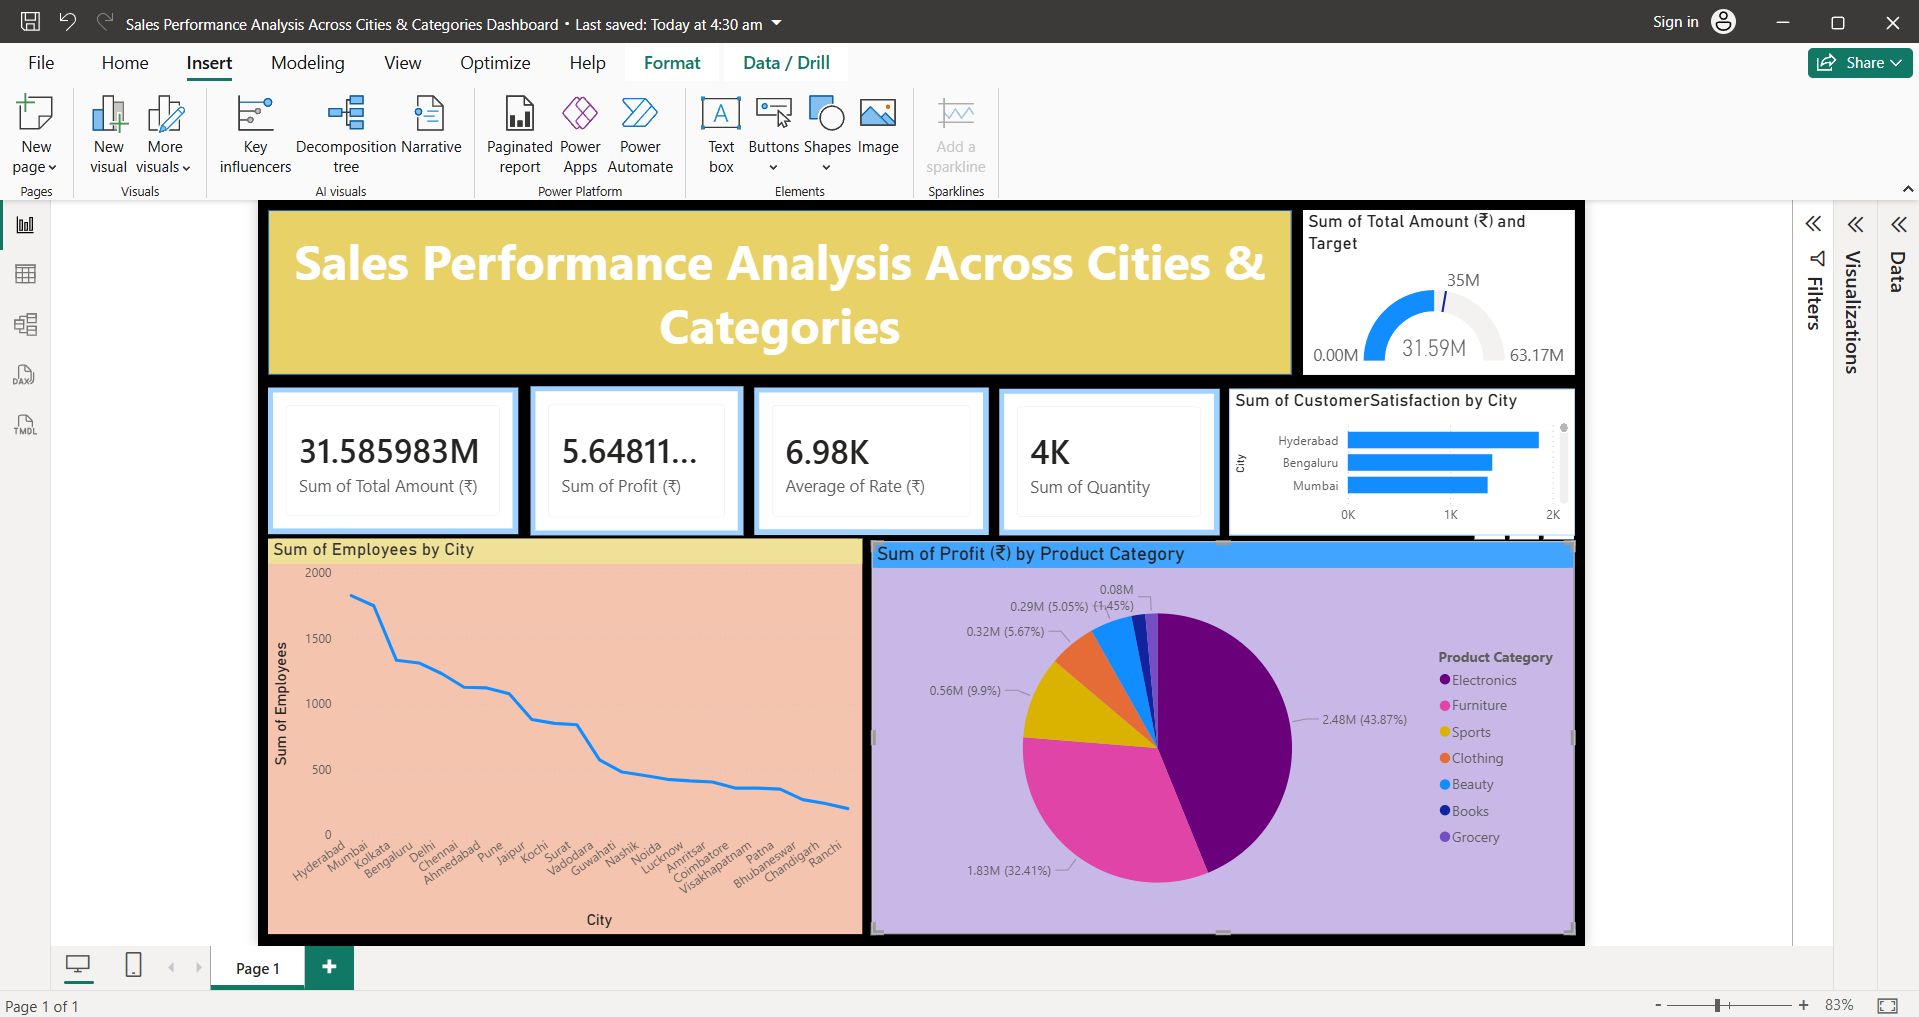

What the dashboard file says about the page in this screenshot:
{"tool":"powerbi","page":{"name":"Page 1","canvas":[1280,720],"ordinal":0},"visuals":[{"type":"gauge","fields":{"Y":["Sum(Sales Data.Total Amount (₹))"],"TargetValue":["Operations_Data.Target"]},"box":[1008.6,9.6,262.1,159.2],"z":0},{"type":"cardVisual","fields":{"Data":["Sum(Sales Data.Quantity)"]},"box":[714.9,182.5,212.7,141.3],"z":1000},{"type":"cardVisual","fields":{"Data":["Avg(Sales Data.Rate (₹))"]},"box":[478.9,181.1,226.4,142.7],"z":2000},{"type":"cardVisual","fields":{"Data":["Sum(Sales Data.Profit (₹))"]},"box":[263.5,179.8,205.8,144.1],"z":3000},{"type":"cardVisual","fields":{"Data":["Sum(Sales Data.Total Amount (₹))"]},"box":[9.6,181.1,241.5,141.3],"z":4000},{"type":"lineChart","fields":{"Y":["Sum(Operations_Data.Employees)"],"Category":["Operations_Data.City"]},"box":[9.6,326.6,573.6,381.5],"z":5000},{"type":"pieChart","fields":{"Category":["Sales Data.Product Category"],"Y":["Sum(Sales Data.Profit (₹))"]},"box":[592.8,329.3,677.9,378.7],"z":6000},{"type":"barChart","fields":{"Category":["Operations_Data.City"],"Y":["Sum(Operations_Data.CustomerSatisfaction)"]},"box":[937.2,182.5,333.4,141.3],"z":7000},{"type":"shape","box":[9.6,9.6,988,159.2],"z":8000}]}

Visuals, with their boxes on the page's 1280x720 design canvas (x1, y1, x2, y2). These are canvas units, not pixel positions in the 1919x1017 screenshot, which may show the page scaled, cropped or inside an application window:
gauge - Sum(Sales Data.Total Amount (₹)) x Operations_Data.Target: [x1=1009, y1=10, x2=1271, y2=169]
cardVisual - Sum(Sales Data.Quantity): [x1=715, y1=182, x2=928, y2=324]
cardVisual - Avg(Sales Data.Rate (₹)): [x1=479, y1=181, x2=705, y2=324]
cardVisual - Sum(Sales Data.Profit (₹)): [x1=264, y1=180, x2=469, y2=324]
cardVisual - Sum(Sales Data.Total Amount (₹)): [x1=10, y1=181, x2=251, y2=322]
lineChart - Sum(Operations_Data.Employees) x Operations_Data.City: [x1=10, y1=327, x2=583, y2=708]
pieChart - Sales Data.Product Category x Sum(Sales Data.Profit (₹)): [x1=593, y1=329, x2=1271, y2=708]
barChart - Operations_Data.City x Sum(Operations_Data.CustomerSatisfaction): [x1=937, y1=182, x2=1271, y2=324]
shape: [x1=10, y1=10, x2=998, y2=169]
